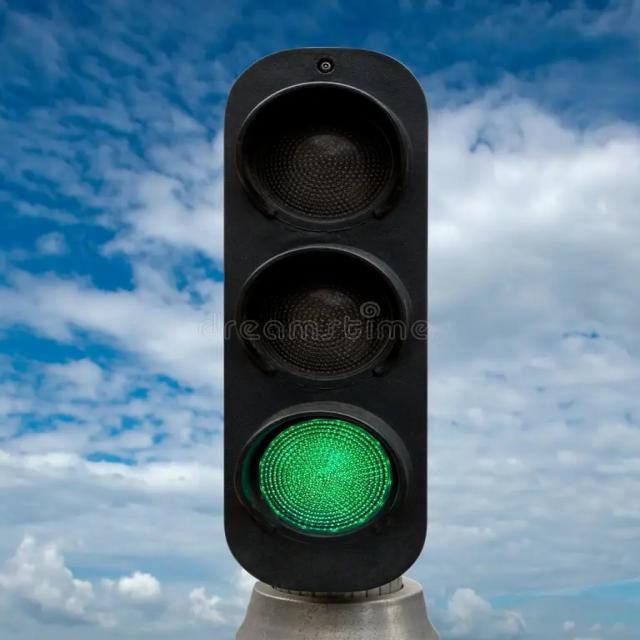green: (246, 404, 402, 534)
